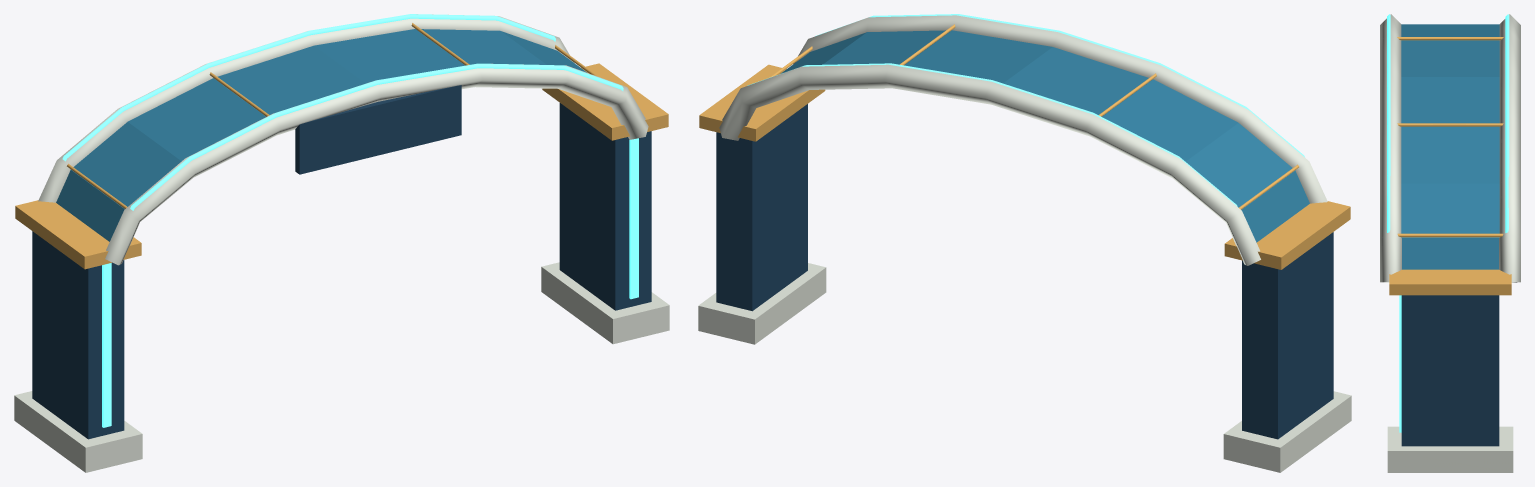
The model's file is wave_pavilion_lod2.glb.
3 renders of one model, left to right at view 1: azimuth 30°, elevation 25°; view 2: azimuth 150°, elevation 25°; view 3: azimuth 270°, elevation 25°, orthographic. The views are drawn at different scales.
Parts seen in each view (by area): view 1: navy_ceramic, ivory_stone, blue_canopy, cyan_light, warm_brass; view 2: ivory_stone, navy_ceramic, blue_canopy, warm_brass, cyan_light; view 3: blue_canopy, navy_ceramic, ivory_stone, warm_brass, cyan_light.
Part boxes in pixels (<box>): navy_ceramic: <box>32,85,651,439</box>; ivory_stone: <box>14,14,669,472</box>; blue_canopy: <box>56,29,587,241</box>; cyan_light: <box>62,14,638,427</box>; warm_brass: <box>15,23,668,269</box>; ivory_stone: <box>698,15,1351,472</box>; navy_ceramic: <box>716,104,1333,439</box>; blue_canopy: <box>780,30,1309,242</box>; warm_brass: <box>699,24,1350,269</box>; cyan_light: <box>747,14,1304,206</box>; blue_canopy: <box>1401,24,1499,269</box>; navy_ceramic: <box>1401,295,1499,446</box>; ivory_stone: <box>1380,14,1520,472</box>; warm_brass: <box>1389,37,1511,295</box>; cyan_light: <box>1387,14,1509,432</box>.
Bounding box in the file's own units: 16.95 × 8.89 × 4.04.
